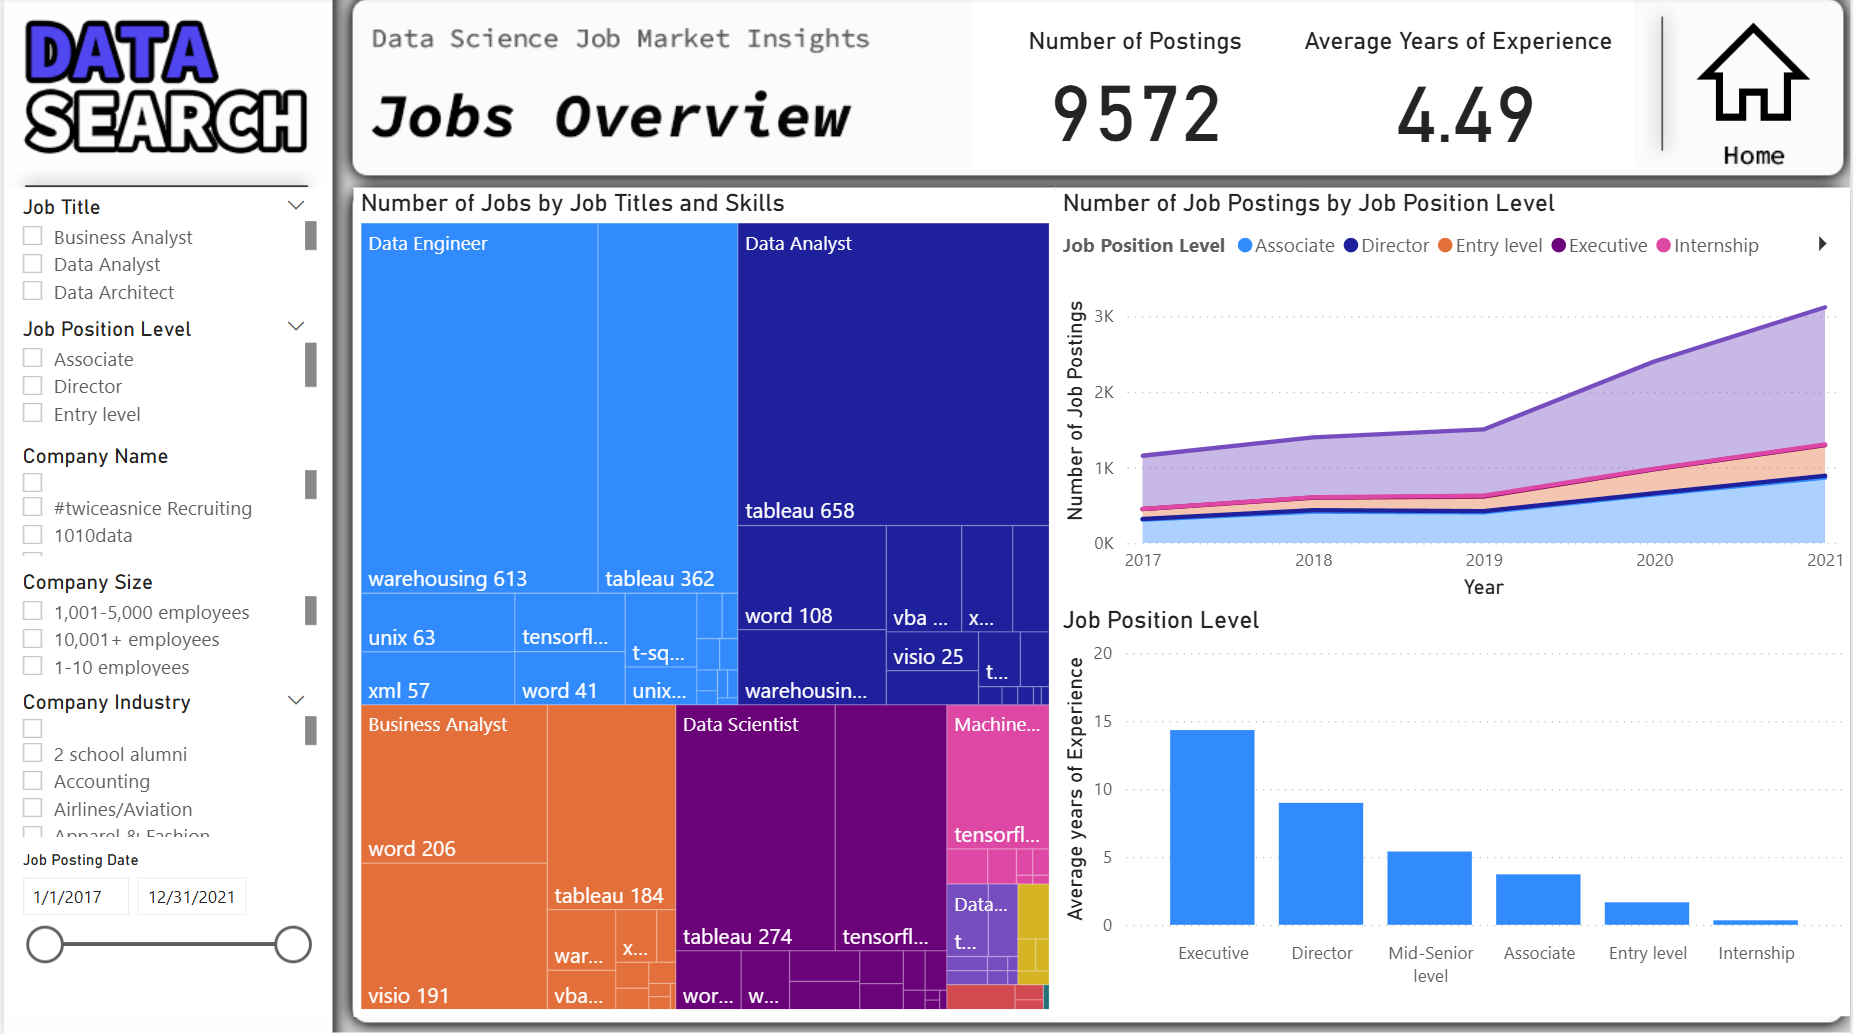

The dashboard page shown, as its layout file describes it:
{"tool":"powerbi","page":{"name":"Jobs","canvas":[1280,720],"ordinal":1},"visuals":[{"type":"stackedAreaChart","title":"Number of Job Postings by Job Position Level","fields":{"Category":["Job Postings.Job Posting Date.Variation.Date Hierarchy.Year","Job Postings.Job Posting Date.Variation.Date Hierarchy.Quarter","Job Postings.Job Posting Date.Variation.Date Hierarchy.Month","Job Postings.Job Posting Date.Variation.Date Hierarchy.Day"],"Y":["CountNonNull(Job Postings.Job Posting ID)"],"Series":["Job Postings.Job Position Level"]},"box":[728.5,131.8,551,289],"z":0},{"type":"treemap","title":"Number of Jobs by Job Titles and Skills","fields":{"Group":["Job Postings.Job Title"],"Values":["CountNonNull(Job Postings.Job Title)"],"Details":["Job Skills.Job Skills"]},"box":[241.7,131.8,486.8,574.7],"z":1000},{"type":"columnChart","title":"Job Position Level","fields":{"Y":["Avg(Job Postings.Years of Experience)"],"Category":["Job Postings.Job Position Level"]},"box":[728.5,420.8,551,285.6],"z":2000},{"type":"slicer","fields":{"Values":["Job Postings.Job Title"]},"box":[0,131.8,221.4,84.5],"z":3000},{"type":"slicer","fields":{"Values":["Job Postings.Job Position Level"]},"box":[0,216.3,221.4,87.9],"z":4000},{"type":"slicer","fields":{"Values":["Job Postings.Company Name"]},"box":[0,304.2,221.4,87.9],"z":5000},{"type":"slicer","fields":{"Values":["Job Postings.Company Industry"]},"box":[0,474.9,221.4,111.6],"z":6000},{"type":"slicer","fields":{"Values":["Job Postings.Job Posting Date"]},"box":[0,586.5,221.4,120],"z":7000},{"type":"slicer","fields":{"Values":["Job Postings.Company Size"]},"box":[0,392.1,221.4,82.8],"z":8000},{"type":"card","title":"Number of Postings","fields":{"Values":["_Measures.Posting Count"]},"box":[671,0,224.8,118.3],"z":9000},{"type":"card","title":"Average Years of Experience","fields":{"Values":["Avg(Job Postings.Years of Experience)"]},"box":[895.8,0,233.2,118.3],"z":10000},{"type":"image","box":[1167.3,7.3,89.4,89.4],"z":10001}]}

Visuals, with their boxes on the page's 1280x720 design canvas (x1, y1, x2, y2). These are canvas units, not pixel positions in the 1853x1035 screenshot, which may show the page scaled, cropped or inside an application window:
"Number of Job Postings by Job Position Level" stackedAreaChart: 728 132 1280 421
"Number of Jobs by Job Titles and Skills" treemap: 242 132 728 706
"Job Position Level" columnChart: 728 421 1280 706
slicer - Job Postings.Job Title: 0 132 221 216
slicer - Job Postings.Job Position Level: 0 216 221 304
slicer - Job Postings.Company Name: 0 304 221 392
slicer - Job Postings.Company Industry: 0 475 221 586
slicer - Job Postings.Job Posting Date: 0 586 221 706
slicer - Job Postings.Company Size: 0 392 221 475
"Number of Postings" card: 671 0 896 118
"Average Years of Experience" card: 896 0 1129 118
image: 1167 7 1257 97
